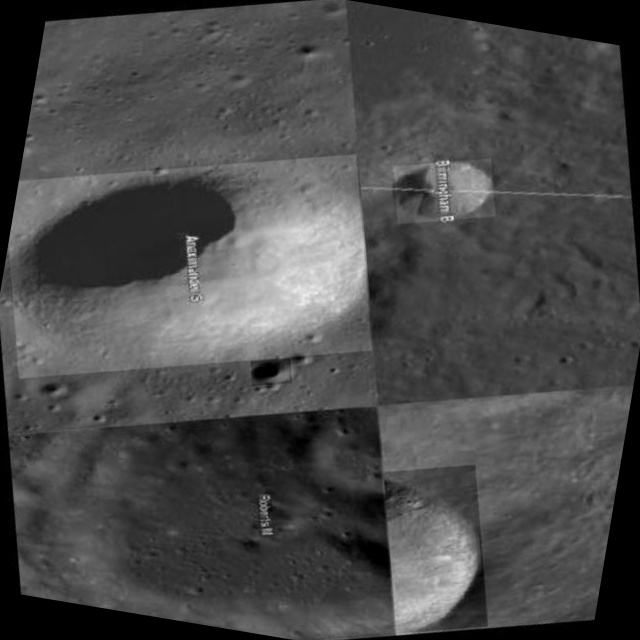crater: (0, 150, 376, 427), (31, 395, 444, 640), (407, 436, 536, 616), (366, 132, 476, 212), (258, 362, 303, 396)
